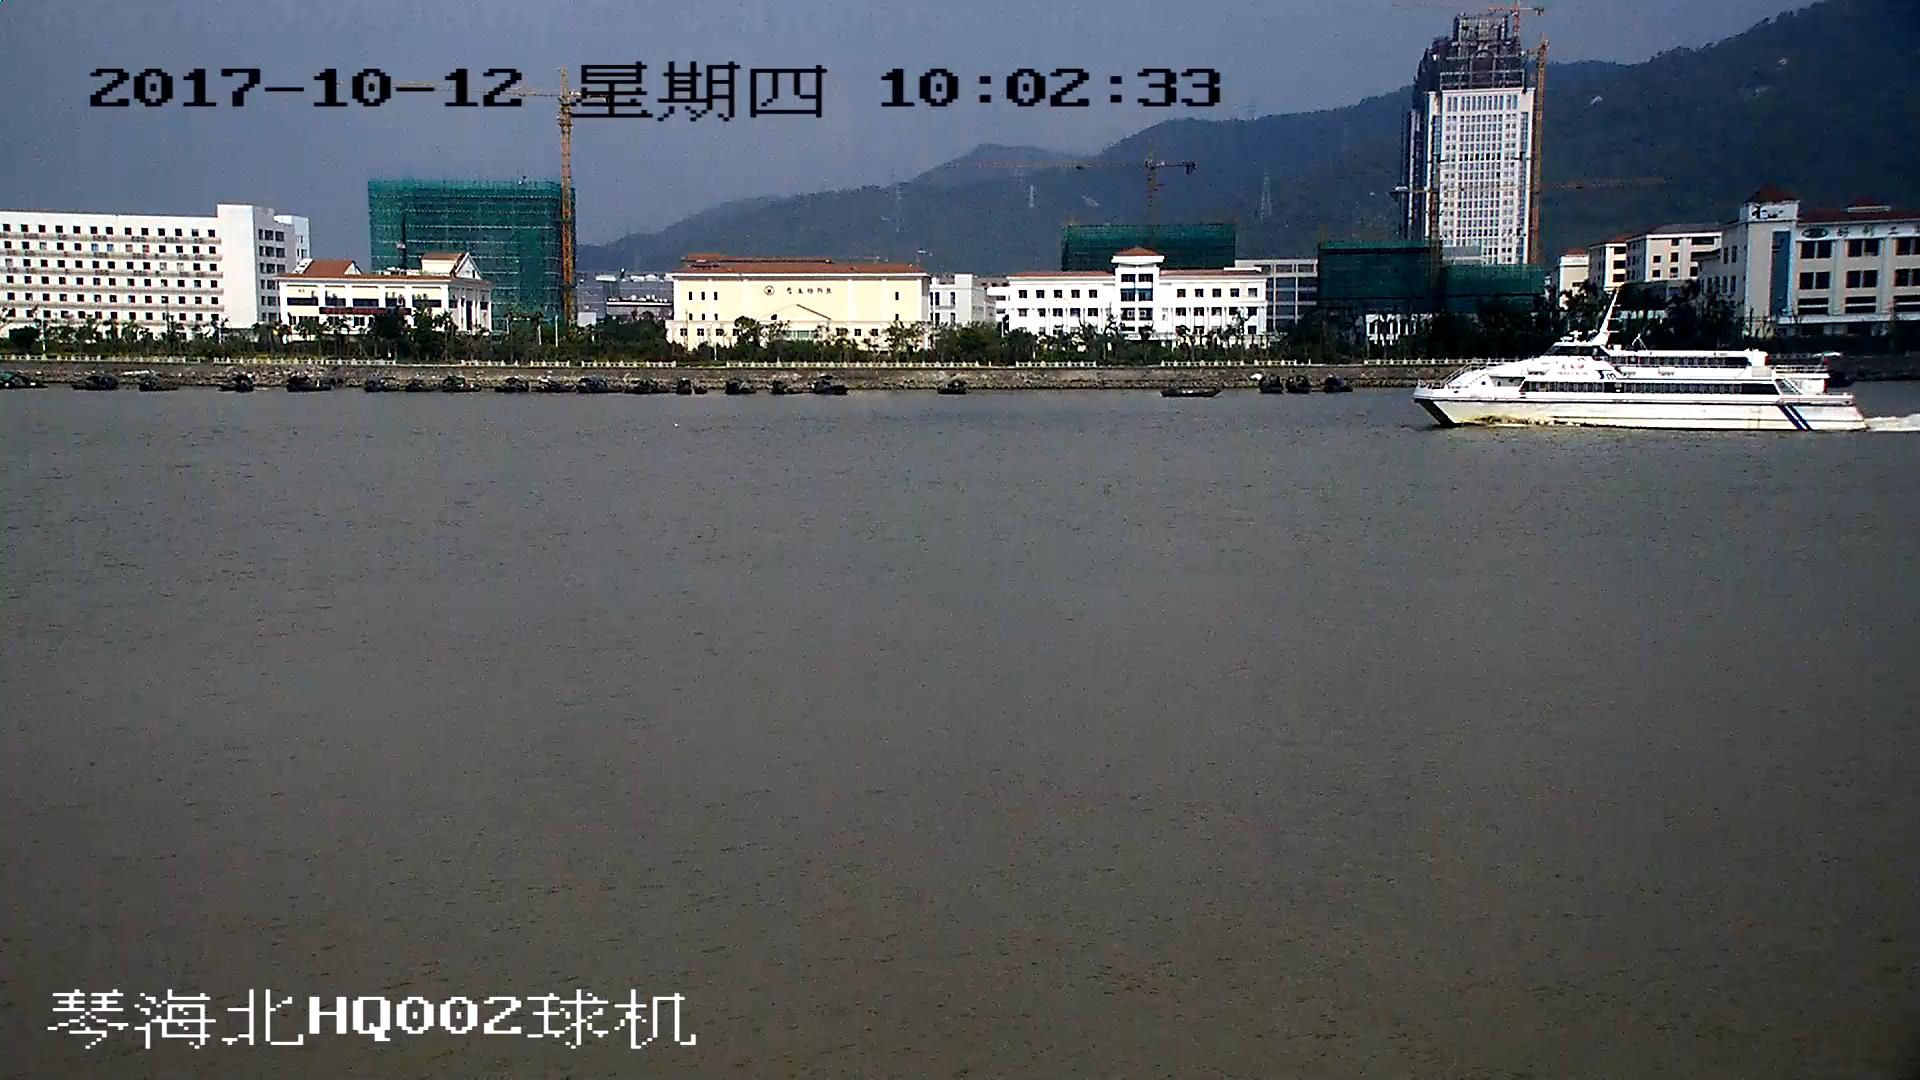passenger ship: (1420, 285, 1863, 429)
